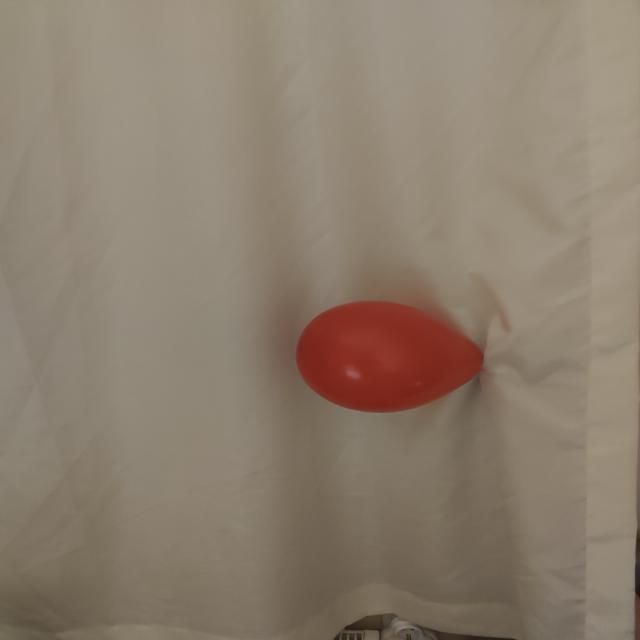balloon: (296, 301, 483, 413)
